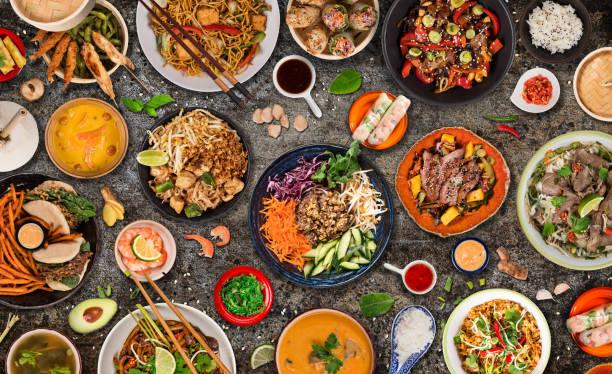Braised Crucian Carp: (247, 143, 388, 286), (381, 1, 513, 106), (1, 173, 100, 307), (136, 0, 278, 93), (516, 131, 611, 269), (136, 108, 248, 221), (394, 128, 506, 237), (97, 302, 234, 373), (442, 288, 552, 373), (39, 0, 130, 84), (43, 98, 128, 179), (274, 307, 376, 374), (285, 0, 377, 61), (571, 47, 612, 121)
